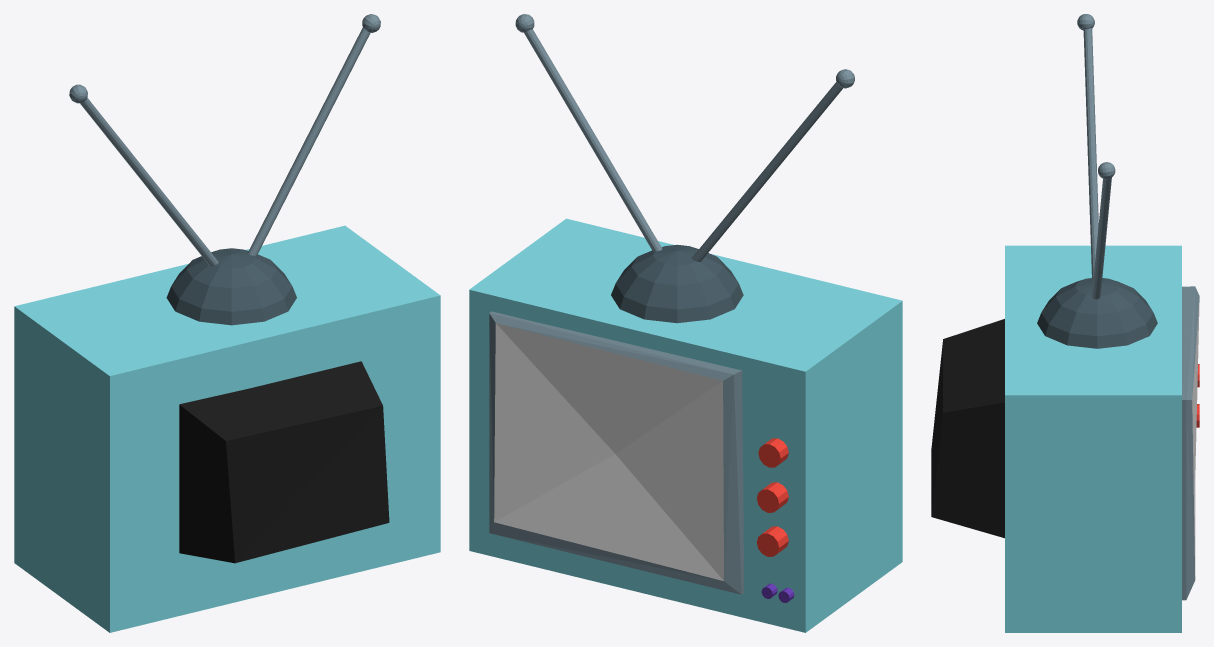
The picture shows the model from 3 angles, left to right: view 1: azimuth 30°, elevation 25°; view 2: azimuth 150°, elevation 25°; view 3: azimuth 270°, elevation 25°; orthographic projection. The views are drawn at different scales.
Parts seen in each view (by area): view 1: mesh_714386066, mesh_1190924403, mesh_2058855419, mesh_1829058871, mesh_1434178028; view 2: mesh_714386066, mesh_906480659, mesh_2058855419, mesh_1829058871, mesh_1434178028, mesh_1181941094, mesh_109401676, mesh_599738498; view 3: mesh_714386066, mesh_1190924403, mesh_2058855419, mesh_906480659, mesh_1434178028, mesh_1829058871.
Boxes of the visible parts, x1=… form: mesh_714386066: x1=14, y1=225, x2=440, y2=632; mesh_1190924403: x1=179, y1=361, x2=389, y2=563; mesh_2058855419: x1=166, y1=248, x2=296, y2=325; mesh_1829058871: x1=248, y1=27, x2=370, y2=256; mesh_1434178028: x1=80, y1=98, x2=218, y2=266; mesh_714386066: x1=469, y1=218, x2=902, y2=632; mesh_906480659: x1=489, y1=311, x2=743, y2=594; mesh_2058855419: x1=611, y1=244, x2=743, y2=323; mesh_1829058871: x1=524, y1=29, x2=662, y2=251; mesh_1434178028: x1=692, y1=82, x2=843, y2=261; mesh_1181941094: x1=756, y1=526, x2=788, y2=556; mesh_109401676: x1=756, y1=482, x2=788, y2=512; mesh_599738498: x1=758, y1=438, x2=788, y2=467; mesh_714386066: x1=1005, y1=245, x2=1181, y2=632; mesh_1190924403: x1=931, y1=319, x2=1004, y2=538; mesh_2058855419: x1=1037, y1=278, x2=1157, y2=348; mesh_906480659: x1=1182, y1=286, x2=1199, y2=600; mesh_1434178028: x1=1083, y1=28, x2=1098, y2=278; mesh_1829058871: x1=1092, y1=177, x2=1111, y2=299.
Size of the model in its own units: 120 by 178 by 91.
